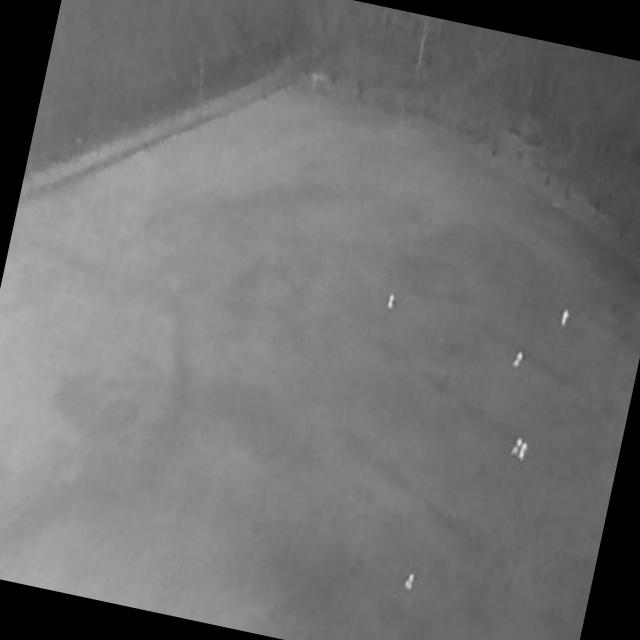person: (509, 436, 524, 459), (516, 440, 529, 464), (403, 571, 416, 593), (512, 351, 524, 370), (386, 293, 396, 312), (560, 310, 570, 326)
